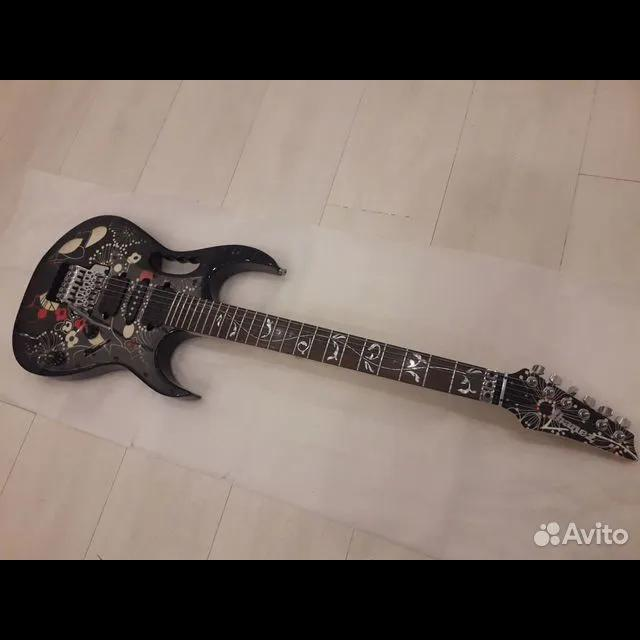Electric-Guitar: (12, 215, 640, 462)
